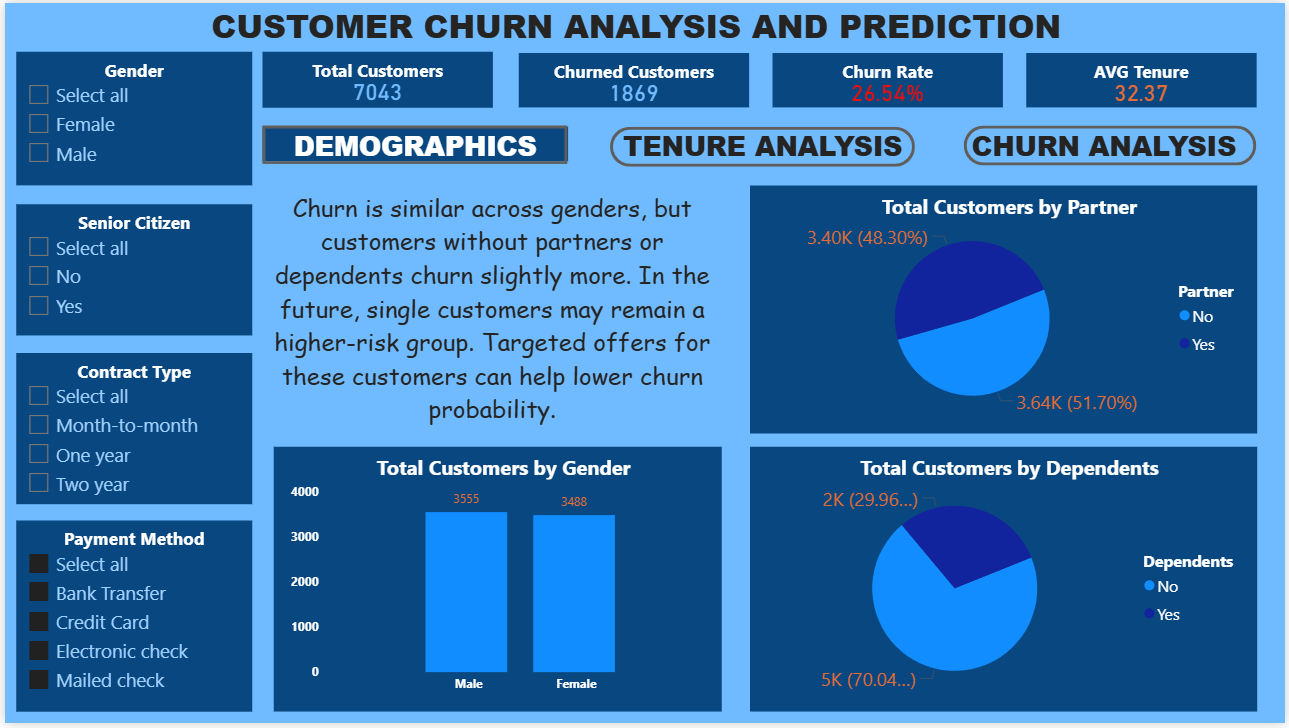

Layout of this report page (visuals, bound fields, positions):
{"tool":"powerbi","page":{"name":"Demographics","canvas":[1280,720],"ordinal":0},"visuals":[{"type":"card","title":"Churn Rate","fields":{"Values":["Telco_Customer_Churn_Dataset.Churn Rate %"]},"box":[767.6,50.4,230.4,54.7],"z":0},{"type":"textbox","title":"CUSTOMER CHURN ANALYSIS AND PREDICTION","box":[11.5,0,1240,49],"z":1000},{"type":"card","title":"Total Customers","fields":{"Values":["Telco_Customer_Churn_Dataset.Total Customers"]},"box":[257.8,49,230.4,56.2],"z":2000},{"type":"card","title":"Churned Customers","fields":{"Values":["Telco_Customer_Churn_Dataset.Churned Customers"]},"box":[514.1,50.4,230.4,54.7],"z":3000},{"type":"card","title":"AVG Tenure","fields":{"Values":["Telco_Customer_Churn_Dataset.Avg Tenure (Months)"]},"box":[1021.1,50.4,230.4,54.7],"z":4000},{"type":"slicer","title":"Gender","fields":{"Values":["Telco_Customer_Churn_Dataset.gender"]},"box":[11.5,49,236.2,133.9],"z":5000},{"type":"slicer","title":"Senior Citizen","fields":{"Values":["Telco_Customer_Churn_Dataset.Senior Citizen Status"]},"box":[11.5,201.6,236.2,131.1],"z":6000},{"type":"slicer","title":"Contract Type","fields":{"Values":["Telco_Customer_Churn_Dataset.Contract"]},"box":[11.5,350,236.2,151.2],"z":7000},{"type":"textbox","title":"DEMOGRAPHICS","box":[257.8,123.9,305.3,34.6],"z":8000},{"type":"textbox","title":"TENURE ANALYSIS","box":[604.9,123.9,305.3,34.6],"z":9000},{"type":"textbox","title":"CHURN ANALYSIS","box":[946.2,123.9,305.3,34.6],"z":10000},{"type":"actionButton","box":[257.5,122.5,305,38.8],"z":11000},{"type":"clusteredColumnChart","title":"Total Customers by Gender","fields":{"Category":["Telco_Customer_Churn_Dataset.gender"],"Y":["Telco_Customer_Churn_Dataset.Total Customers"]},"box":[269.3,443.6,447.9,265],"z":12000},{"type":"pieChart","fields":{"Category":["Telco_Customer_Churn_Dataset.Partner"],"Y":["Telco_Customer_Churn_Dataset.Total Customers"]},"box":[744.6,182.9,506.9,247.7],"z":13000},{"type":"pieChart","fields":{"Category":["Telco_Customer_Churn_Dataset.Dependents"],"Y":["Telco_Customer_Churn_Dataset.Total Customers"]},"box":[744.6,443.6,506.9,265],"z":14000},{"type":"slicer","title":"Payment Method","fields":{"Values":["Telco_Customer_Churn_Dataset.PaymentMethod"]},"box":[11.5,517,236.2,191.5],"z":15000},{"type":"textbox","box":[257.8,182.9,459.4,256.3],"z":16000},{"type":"actionButton","box":[605,123.8,305,40],"z":17000},{"type":"actionButton","box":[958.8,122.5,292.5,40],"z":18000}]}

Visuals, with their boxes in screenshot pixels (x1, y1, x2, y2), scaled from the page's 1280x720 canvas onto the 1289x728 screenshot:
"Churn Rate" card: [773, 51, 1005, 106]
"CUSTOMER CHURN ANALYSIS AND PREDICTION" textbox: [12, 0, 1260, 50]
"Total Customers" card: [260, 50, 492, 106]
"Churned Customers" card: [518, 51, 750, 106]
"AVG Tenure" card: [1028, 51, 1260, 106]
"Gender" slicer: [12, 50, 249, 185]
"Senior Citizen" slicer: [12, 204, 249, 336]
"Contract Type" slicer: [12, 354, 249, 507]
"DEMOGRAPHICS" textbox: [260, 125, 567, 160]
"TENURE ANALYSIS" textbox: [609, 125, 917, 160]
"CHURN ANALYSIS" textbox: [953, 125, 1260, 160]
actionButton: [259, 124, 566, 163]
"Total Customers by Gender" clusteredColumnChart: [271, 449, 722, 716]
pieChart - Telco_Customer_Churn_Dataset.Partner x Telco_Customer_Churn_Dataset.Total Customers: [750, 185, 1260, 435]
pieChart - Telco_Customer_Churn_Dataset.Dependents x Telco_Customer_Churn_Dataset.Total Customers: [750, 449, 1260, 716]
"Payment Method" slicer: [12, 523, 249, 716]
textbox: [260, 185, 722, 444]
actionButton: [609, 125, 916, 166]
actionButton: [966, 124, 1260, 164]
